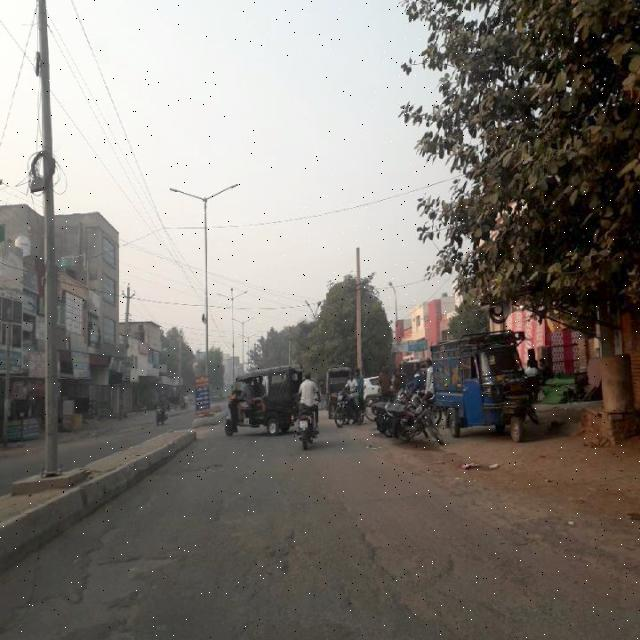D40: (352, 514, 563, 629), (1, 538, 193, 634), (218, 465, 309, 609)
